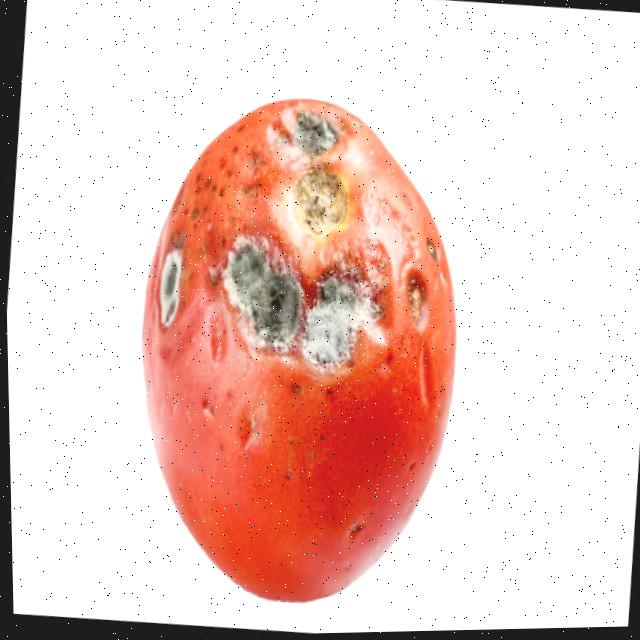rot_lvl2: (218, 221, 309, 360), (302, 269, 388, 377), (273, 102, 345, 169), (288, 170, 351, 234), (155, 238, 188, 332), (402, 261, 433, 332)
